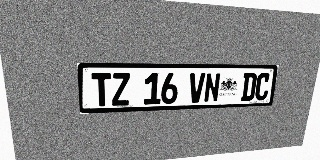1: (144, 73, 161, 105)
6: (161, 73, 178, 104)
C: (254, 73, 271, 101)
D: (241, 73, 258, 101)
N: (204, 73, 221, 102)
T: (91, 73, 111, 107)
V: (188, 73, 205, 103)
Z: (111, 73, 130, 106)
